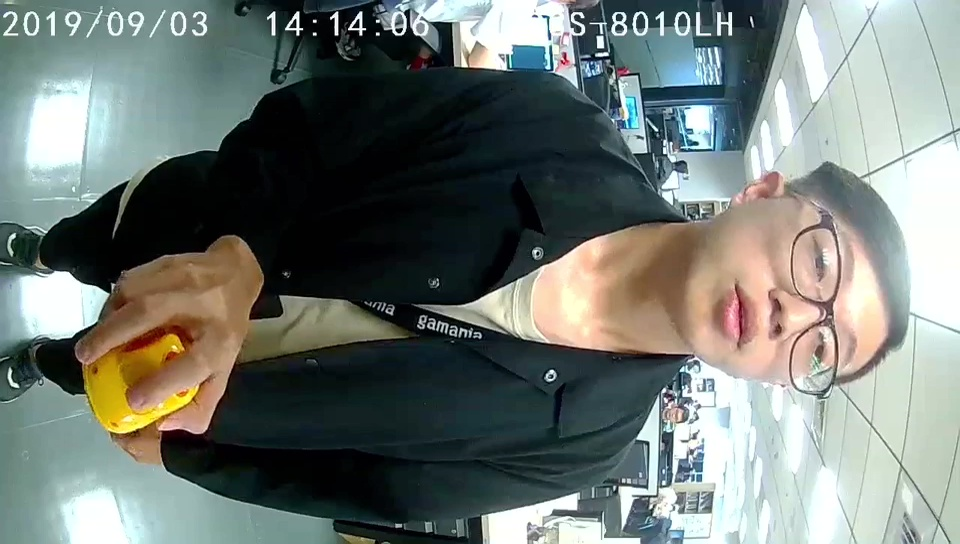car: (80, 327, 200, 433)
